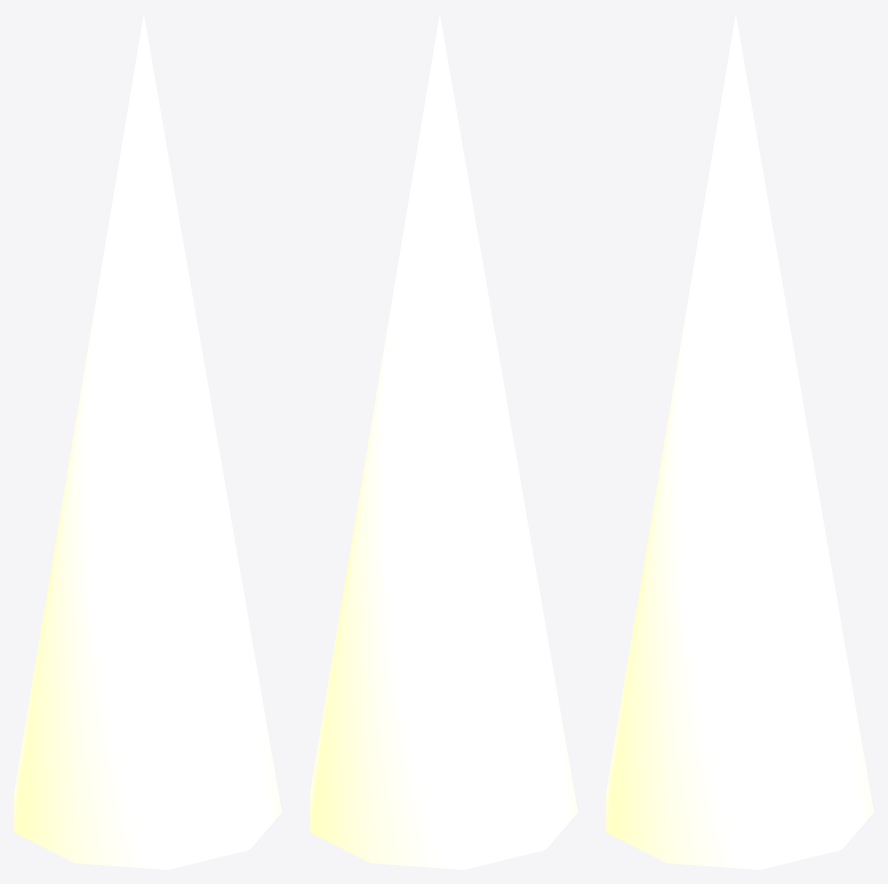
Rendered from godray1.fbx.
3 renders of one model, left to right at view 1: azimuth 30°, elevation 25°; view 2: azimuth 150°, elevation 25°; view 3: azimuth 270°, elevation 25°, orthographic.
Visible parts, largest first — view 1: Cone; view 2: Cone; view 3: Cone.
Part boxes in pixels (x1,y1,x2,y2): Cone: (14, 14, 281, 869); Cone: (310, 14, 577, 869); Cone: (606, 14, 873, 869).
Size of the model in its own units: 197 by 638 by 194.
